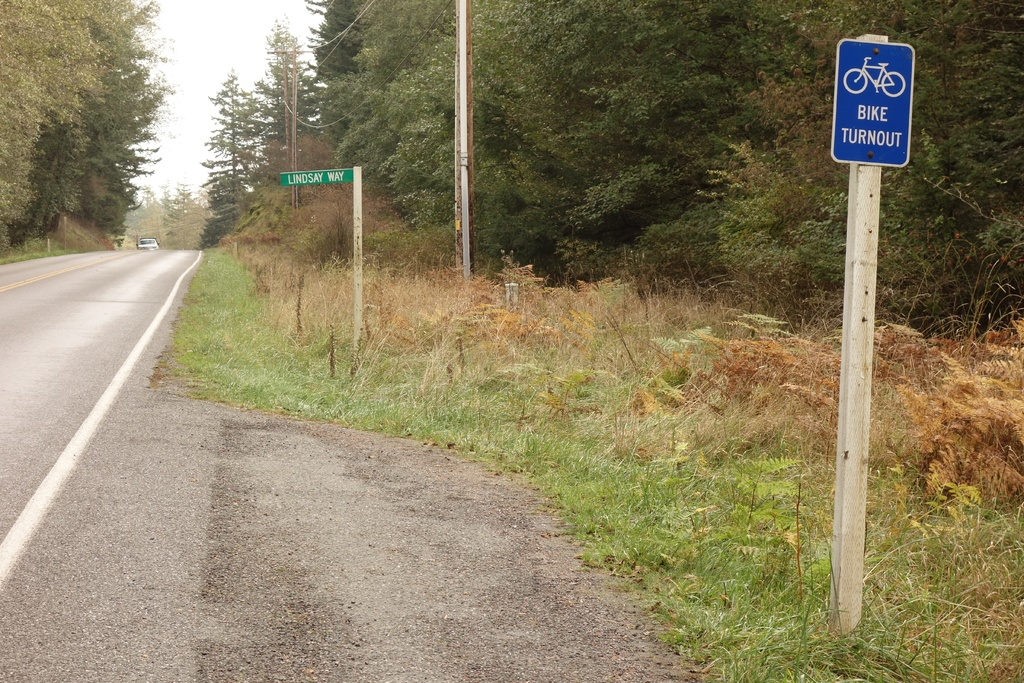c: (843, 44, 909, 109)
cycle_sign: (841, 52, 909, 102)
